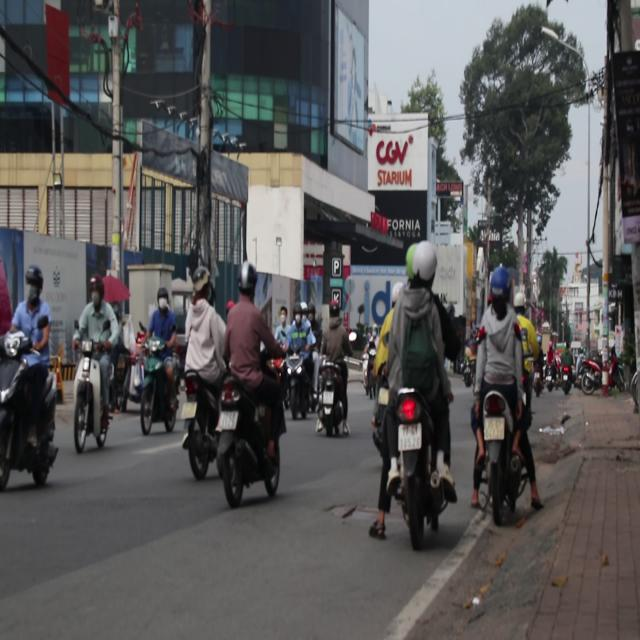motorbike: (373, 378, 452, 550), (469, 378, 541, 521), (212, 374, 281, 508), (3, 330, 55, 498), (181, 360, 229, 478), (69, 342, 119, 454), (137, 343, 184, 436), (310, 359, 348, 438), (576, 358, 602, 394)
